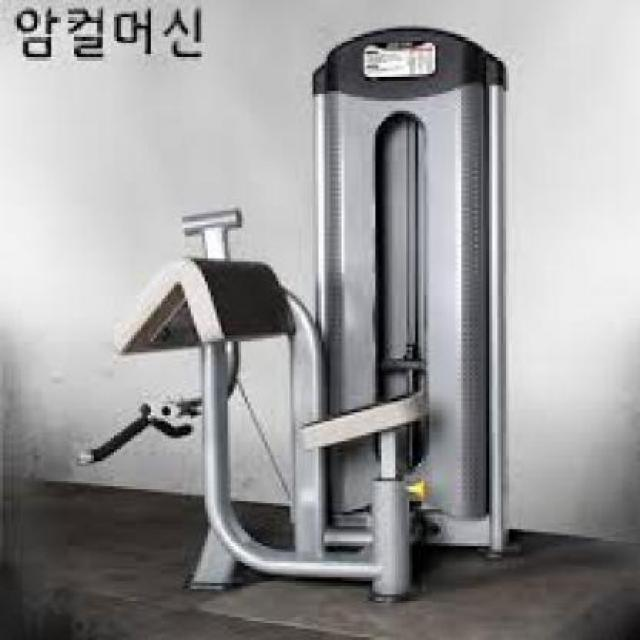arm curl machine: (75, 206, 512, 605)
